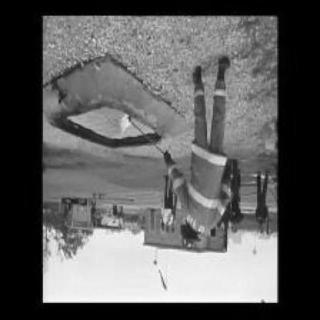Fire: (116, 115, 130, 137)
